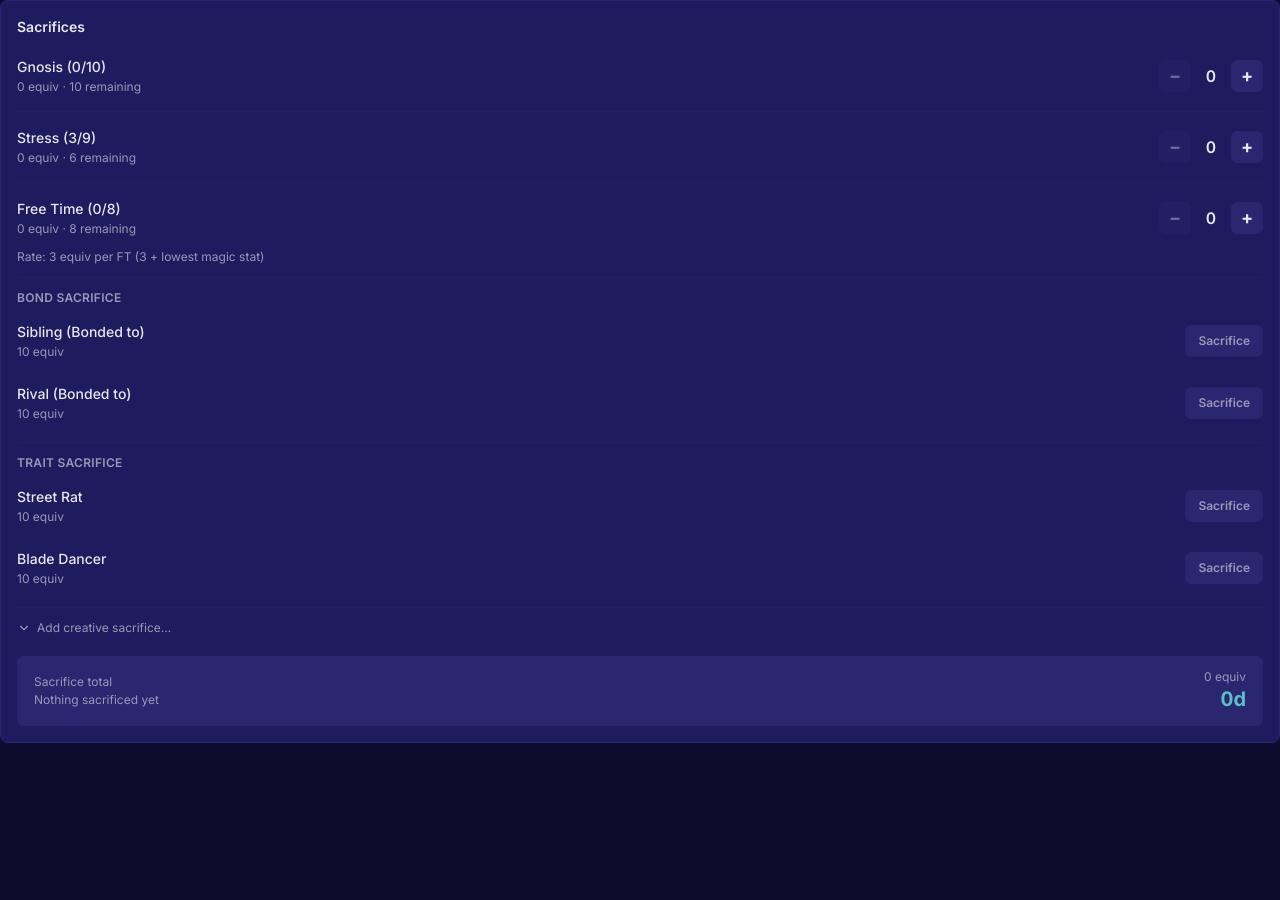
SacrificeBuilder › bond sacrifice toggle › opens confirmation modal when bond sacrifice button is clicked
This screenshot has width=1280, height=900.
Note: Click first "Sacrifice" button (bond section comes before trait section)
What coordinates should you click on to do the following:
click the button with aria-label "Sacrifice Sibling (Bonded to)"
I would click on:
 (1224, 341)
Its box is [1185, 325, 1263, 357].
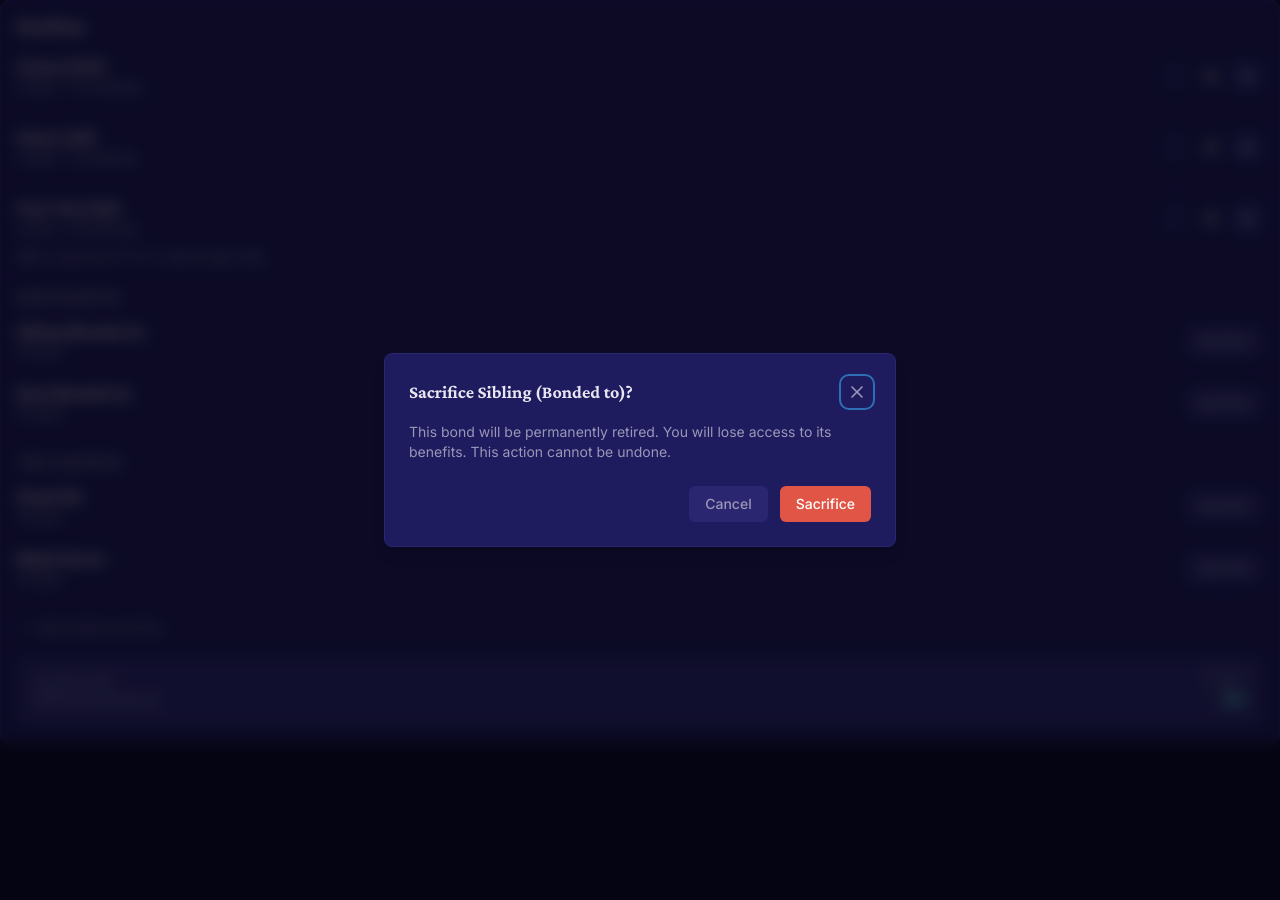
Check: the text "This bond will be permanently retired" is shown, box [409, 423, 832, 460]
